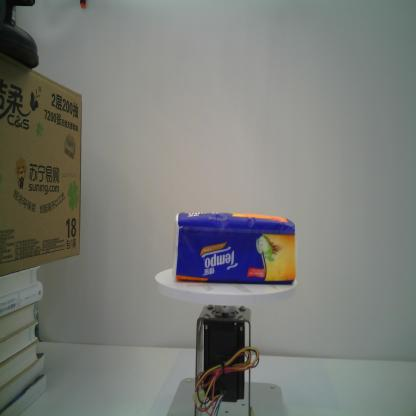Tissue: (172, 210, 297, 286)
